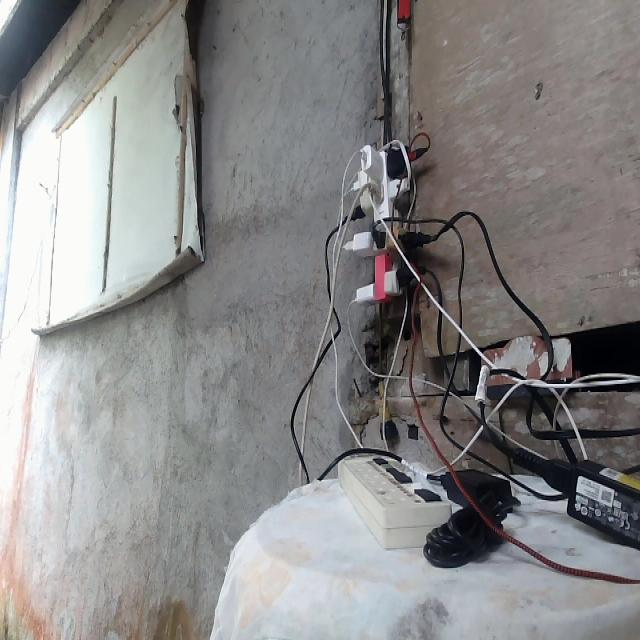-: (339, 137, 434, 304)
